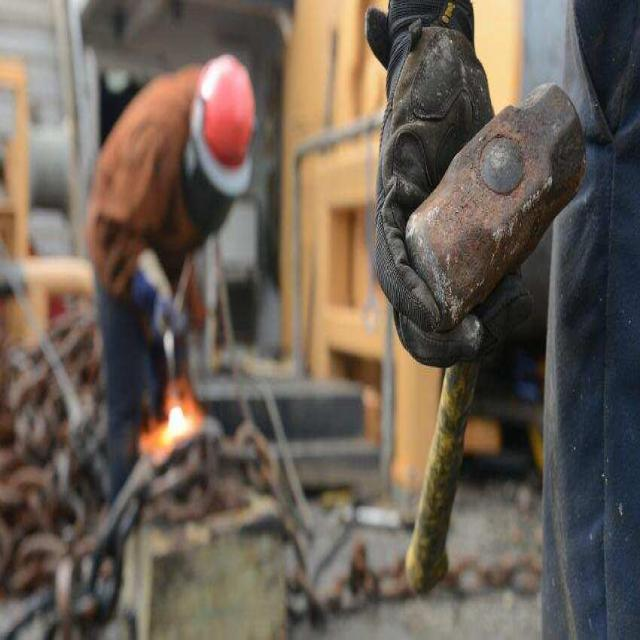Safety-Helmet: (184, 46, 264, 202)
